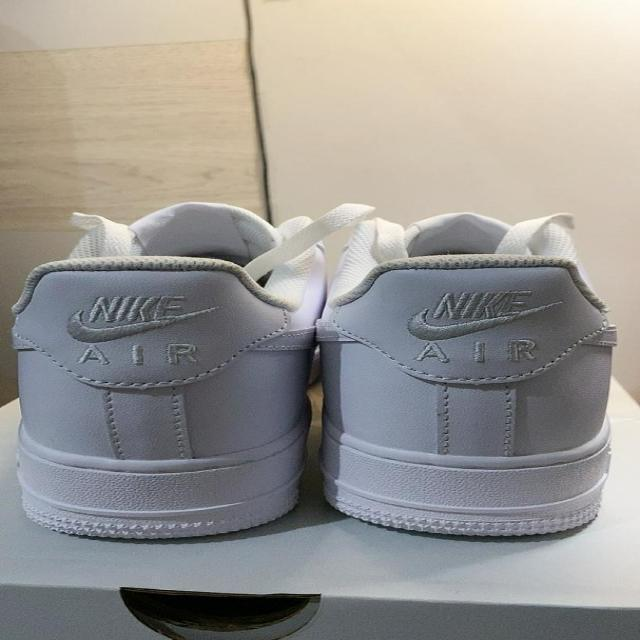nike original air force: (311, 197, 640, 539), (0, 201, 329, 542)
